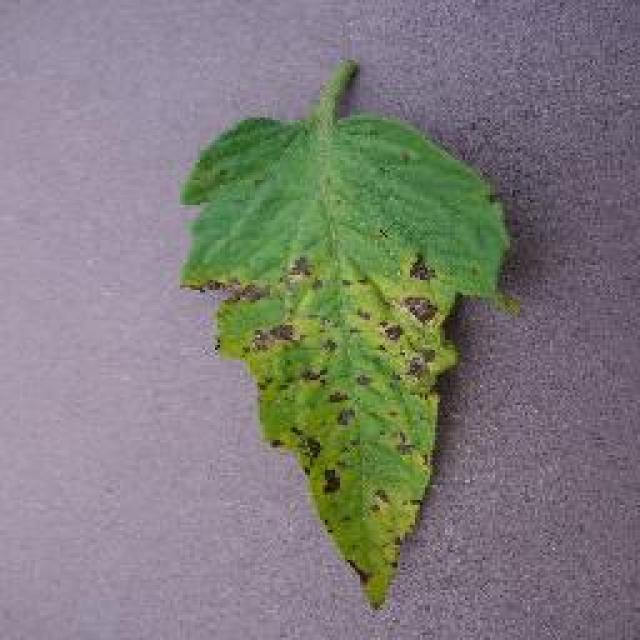Tomato___Septoria_leaf_spot: (182, 62, 515, 605)
